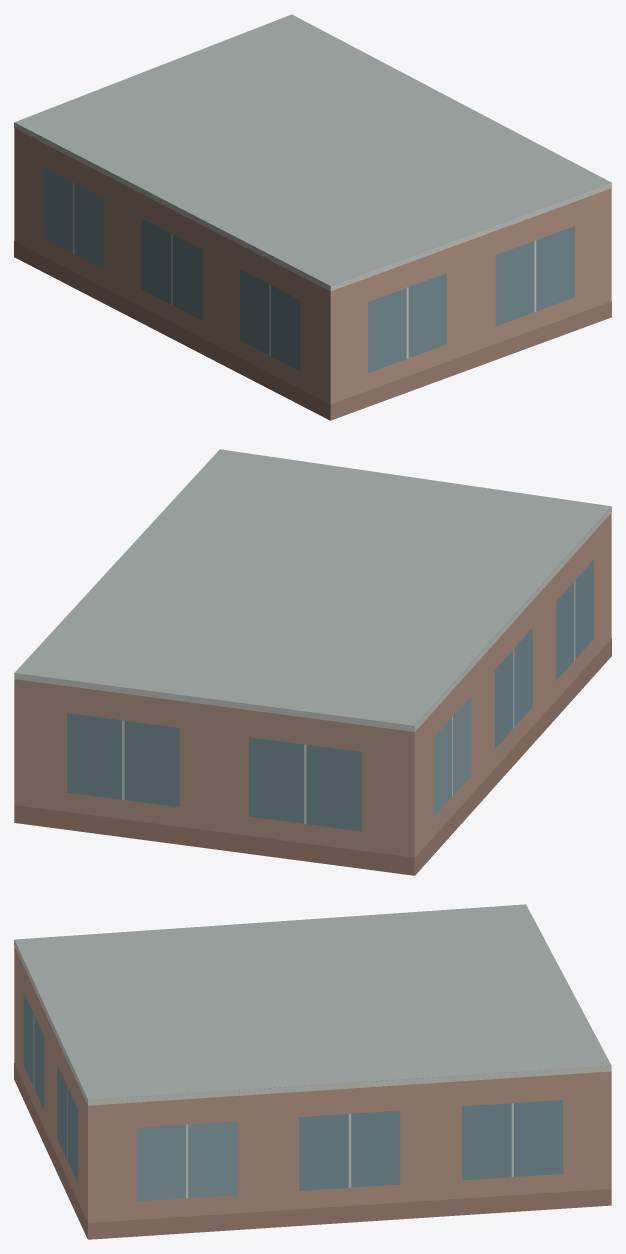
The model's file is survey-upis-32722913.glb.
3 views of the same model, one above another, from view 1: azimuth 30°, elevation 25°; view 2: azimuth 150°, elevation 25°; view 3: azimuth 270°, elevation 25° (orthographic). The views are drawn at different scales.
Visible parts, largest first — view 1: survey-upis-32722913.tmp; view 2: survey-upis-32722913.tmp; view 3: survey-upis-32722913.tmp.
Part boxes in pixels (x1,y1,x2,y2): survey-upis-32722913.tmp: (14,14,611,420); survey-upis-32722913.tmp: (14,449,611,875); survey-upis-32722913.tmp: (14,904,611,1239).
Size of the model in its own units: 9.17 by 3.05 by 11.83.
